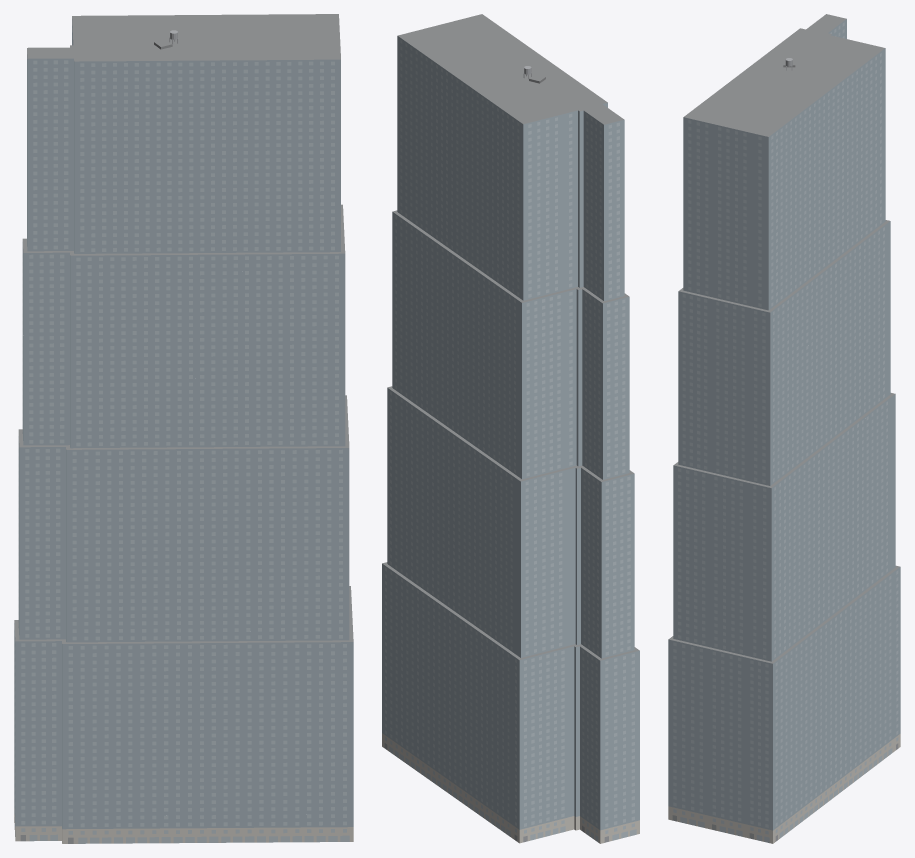
Rendered from doitt-778052__lod_1.glb.
3 renders of one model, left to right at view 1: azimuth 30°, elevation 25°; view 2: azimuth 150°, elevation 25°; view 3: azimuth 270°, elevation 25°, orthographic. The views are drawn at different scales.
Bounding box in the file's own units: 157 × 383 × 113.
